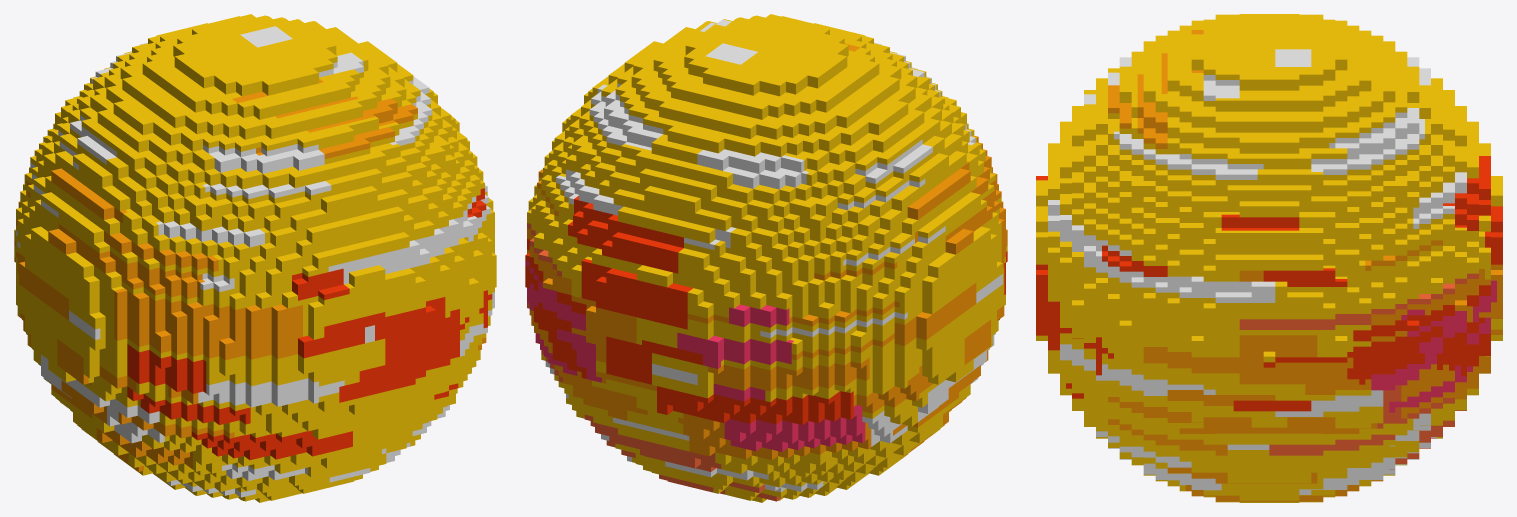
File: jupiter.fbx
3 renders of one model, left to right at view 1: azimuth 30°, elevation 25°; view 2: azimuth 150°, elevation 25°; view 3: azimuth 270°, elevation 25°, orthographic. The views are drawn at different scales.
Parts seen in each view (by area): view 1: jupiter:Mesh; view 2: jupiter:Mesh; view 3: jupiter:Mesh.
Part boxes in pixels (x1,y1,x2,y2): jupiter:Mesh: [14, 14, 496, 502]; jupiter:Mesh: [525, 14, 1007, 502]; jupiter:Mesh: [1036, 14, 1502, 502].
Size of the model in its own units: 80 by 78 by 78.
Materials: 1 (1 with a texture image).
